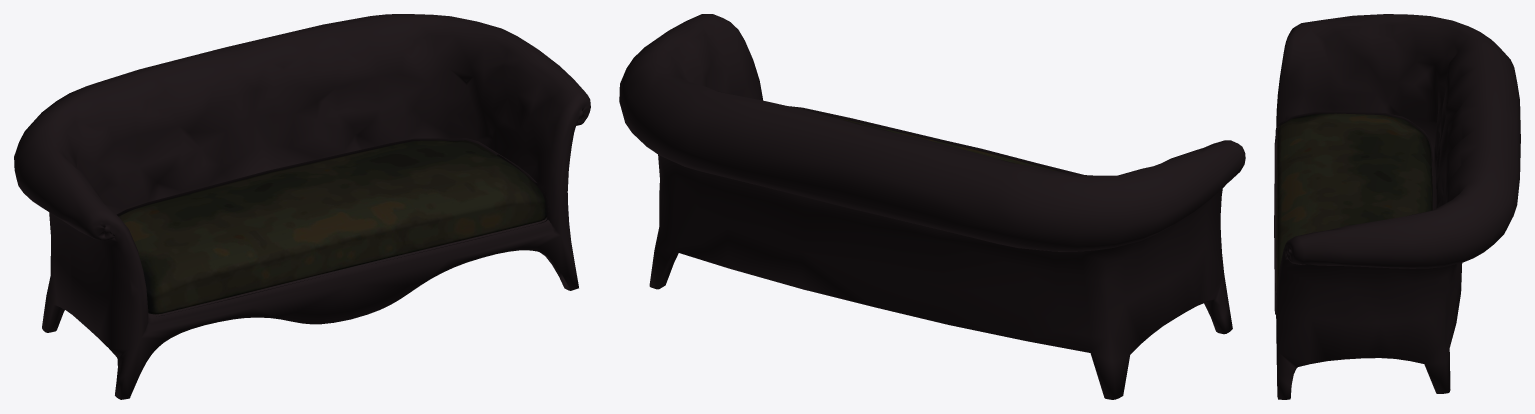
File: SM_Int_SofaB.fbx
The picture shows the model from 3 angles, left to right: view 1: azimuth 30°, elevation 25°; view 2: azimuth 150°, elevation 25°; view 3: azimuth 270°, elevation 25°; orthographic projection. The views are drawn at different scales.
Visible parts, largest first — view 1: SM_Int_SofaB; view 2: SM_Int_SofaB; view 3: SM_Int_SofaB.
Part boxes in pixels (bbox=[...]): SM_Int_SofaB: bbox=[14, 14, 590, 399]; SM_Int_SofaB: bbox=[619, 14, 1245, 399]; SM_Int_SofaB: bbox=[1274, 14, 1520, 399].
Size of what is drawn, in the model's own units: 1.91 by 0.76 by 0.8757.
